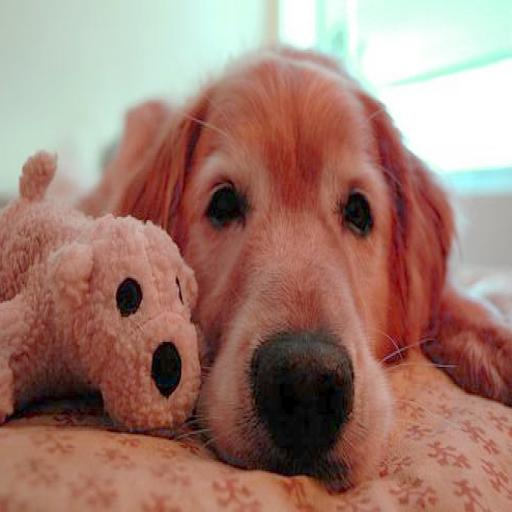dog_face: (166, 55, 438, 466)
